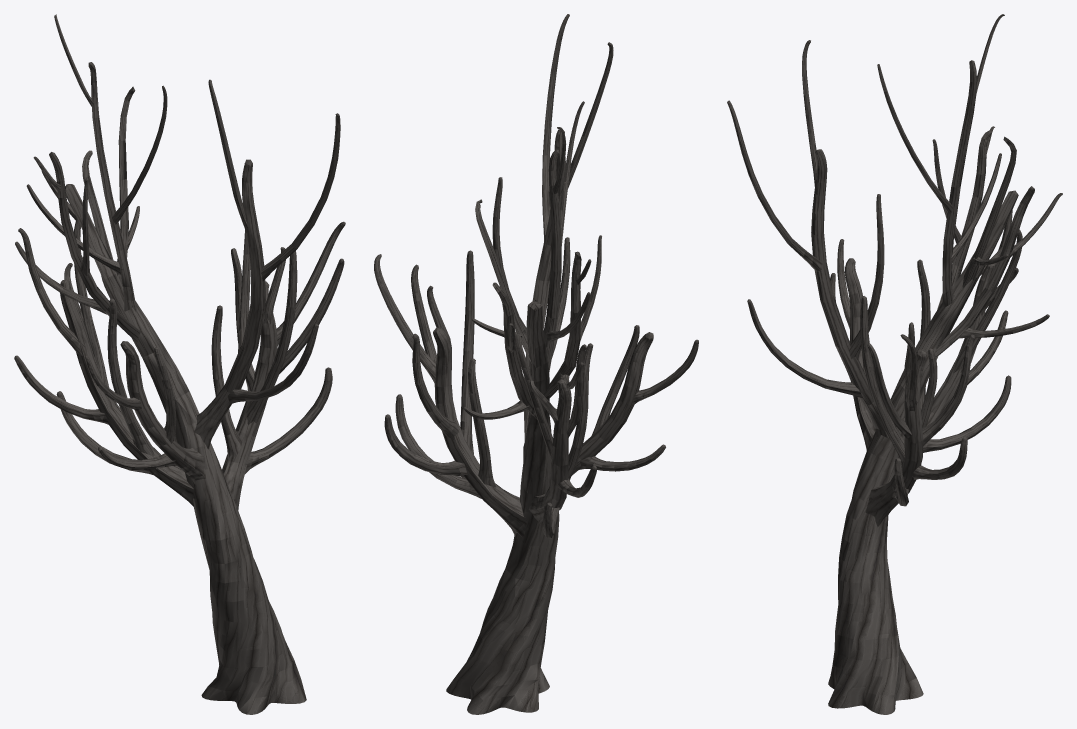
The model's file is torcida-seca-reprovada.glb.
The picture shows the model from 3 angles, left to right: view 1: azimuth 30°, elevation 25°; view 2: azimuth 150°, elevation 25°; view 3: azimuth 270°, elevation 25°; orthographic projection. The views are drawn at different scales.
Bounding box in the file's own units: 8.3 × 17.76 × 8.72.
Materials: 1 (1 with a texture image).
